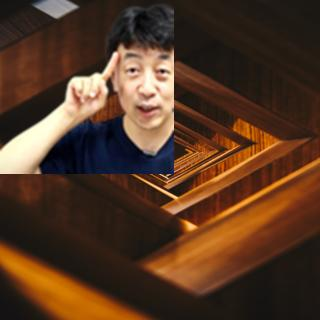IRRITATED: (63, 50, 120, 122)
